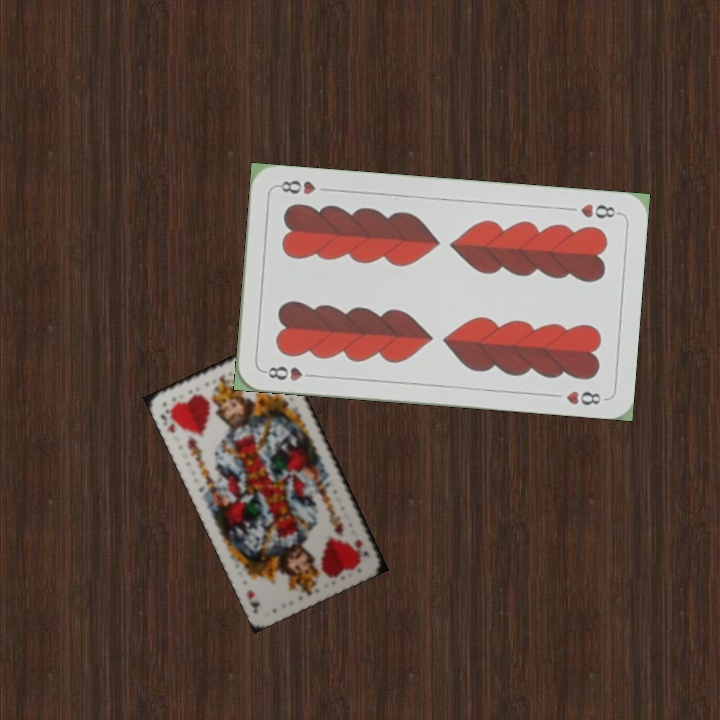H8: (260, 362, 319, 383), (576, 200, 622, 221)
HK: (156, 404, 183, 435), (350, 535, 370, 559)
